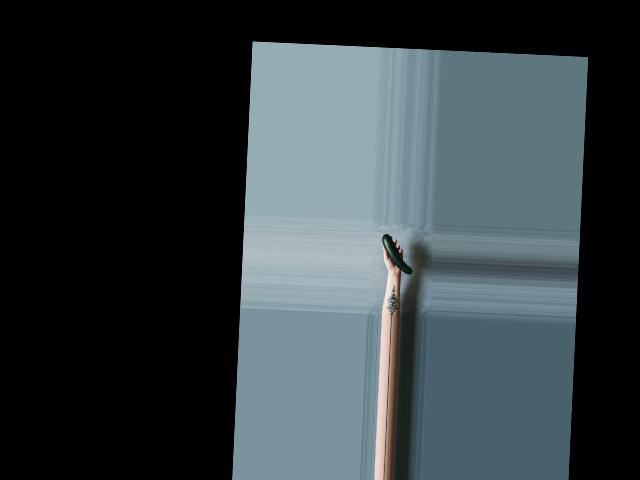cucumber: (381, 233, 414, 274)
